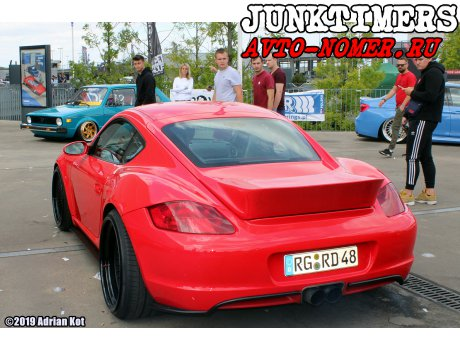License Plates: (295, 249, 357, 267)
